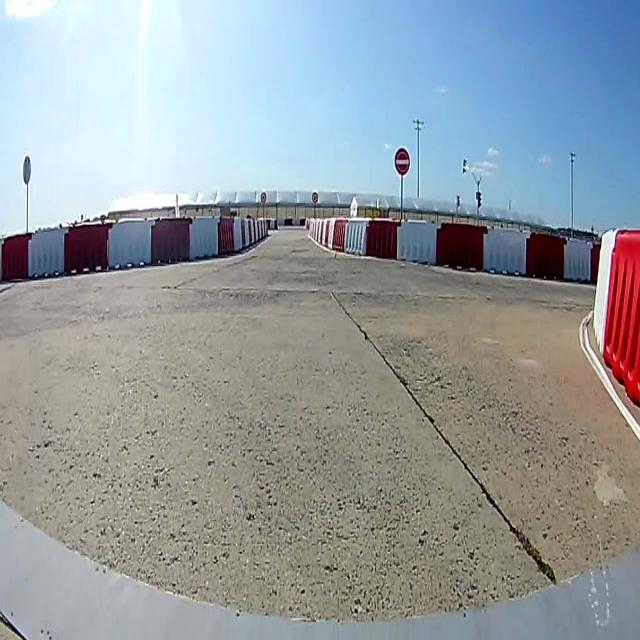girisyok: (394, 147, 410, 176)
